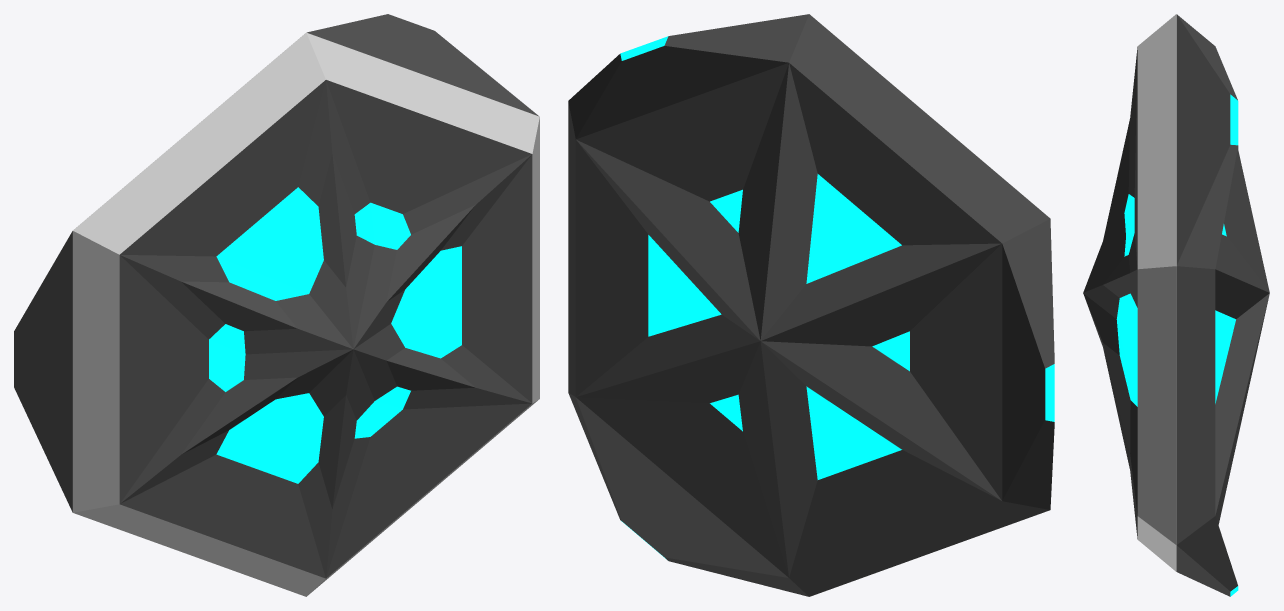
The model's file is Roofdec3.fbx.
The picture shows the model from 3 angles, left to right: view 1: azimuth 30°, elevation 25°; view 2: azimuth 150°, elevation 25°; view 3: azimuth 270°, elevation 25°; orthographic projection. The views are drawn at different scales.
Visible parts, largest first — view 1: Cylinder.001; view 2: Cylinder.001; view 3: Cylinder.001.
Part boxes in pixels (left/top/right/bottom): Cylinder.001: left=14, top=14, right=539, bottom=596; Cylinder.001: left=568, top=14, right=1054, bottom=596; Cylinder.001: left=1083, top=14, right=1269, bottom=596.
Size of the model in its own units: 185 by 200 by 60.67.
